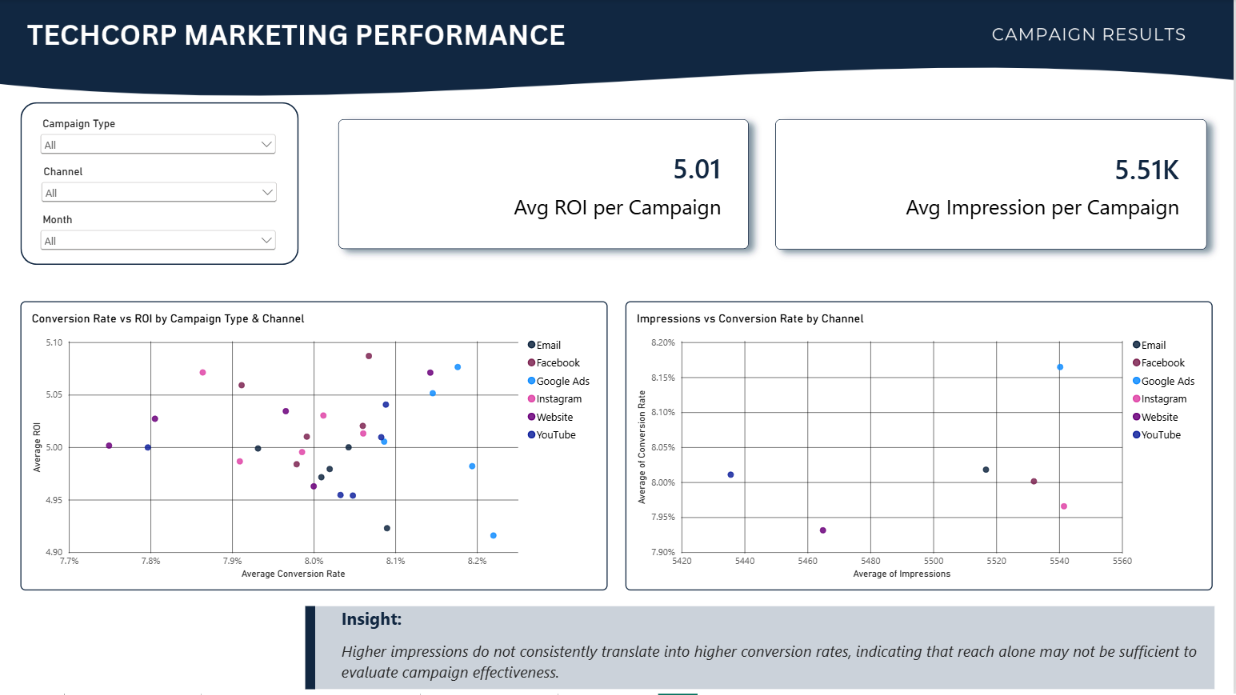

What the dashboard file says about the page in this screenshot:
{"tool":"powerbi","page":{"name":"Campaign Results","canvas":[1920,1080],"ordinal":2},"visuals":[{"type":"image","box":[0,0,1919.7,1080.3],"z":0},{"type":"group","id":"g1","title":"Group 1","box":[34.9,160.5,432.6,252.9],"z":1000},{"type":"shape","box":[34.9,160.5,432.6,252.9],"z":1500,"group":"g1"},{"type":"cardVisual","fields":{"Data":["marketing_campaign techcorp_marketing_campaign.Avg ROI per Campaign"]},"box":[507.6,165.7,678.5,242.4],"z":2000},{"type":"cardVisual","fields":{"Data":["marketing_campaign techcorp_marketing_campaign.Avg Cost per Campaign"]},"box":[1186.9,165.7,711.4,243.2],"z":3000},{"type":"scatterChart","title":"Conversion Rate vs ROI by Campaign Type & Channel","fields":{"X":["Avg(marketing_campaign techcorp_marketing_campaign.Conversion_Rate)"],"Y":["Avg(marketing_campaign techcorp_marketing_campaign.ROI)"],"Category":["marketing_campaign techcorp_marketing_campaign.Campaign_Type"],"Series":["marketing_campaign techcorp_marketing_campaign.Channel_Used"]},"box":[34.9,468.9,912.5,449.9],"z":4000},{"type":"slicer","fields":{"Values":["marketing_campaign techcorp_marketing_campaign.Campaign_Type"]},"box":[61.8,183.2,375,60.3],"z":4500,"group":"g1"},{"type":"slicer","fields":{"Values":["marketing_campaign techcorp_marketing_campaign.Channel_Used"]},"box":[63.5,258.2,375,60.3],"z":5000,"group":"g1"},{"type":"scatterChart","title":"Impressions vs Conversion Rate by Channel","fields":{"X":["marketing_campaign techcorp_marketing_campaign.Impressions"],"Y":["Avg(marketing_campaign techcorp_marketing_campaign.Conversion_Rate)"],"Series":["marketing_campaign techcorp_marketing_campaign.Channel_Used"]},"box":[974.3,468.9,912.5,449.9],"z":5000},{"type":"slicer","fields":{"Values":["marketing_campaign techcorp_marketing_campaign.Month.Variation.Date Hierarchy.Month"]},"box":[61.8,333.2,375,60.3],"z":5500,"group":"g1"},{"type":"group","id":"g2","title":"Group 2","box":[477.2,943.2,1413,129.2],"z":6000},{"type":"textbox","box":[491.2,943.2,1399,129],"z":7000,"group":"g2"},{"type":"shape","box":[477.2,943.4,15.5,129],"z":9000,"group":"g2"}]}

Visuals, with their boxes in screenshot pixels (x1, y1, x2, y2), scaled from the page's 1920x1080 canvas onto the 1236x695 screenshot:
image: [0, 0, 1235, 694]
"Group 1" group: [22, 103, 301, 266]
shape: [22, 103, 301, 266]
cardVisual - marketing_campaign techcorp_marketing_campaign.Avg ROI per Campaign: [327, 107, 764, 263]
cardVisual - marketing_campaign techcorp_marketing_campaign.Avg Cost per Campaign: [764, 107, 1222, 263]
"Conversion Rate vs ROI by Campaign Type & Channel" scatterChart: [22, 302, 610, 591]
slicer - marketing_campaign techcorp_marketing_campaign.Campaign_Type: [40, 118, 281, 157]
slicer - marketing_campaign techcorp_marketing_campaign.Channel_Used: [41, 166, 282, 205]
"Impressions vs Conversion Rate by Channel" scatterChart: [627, 302, 1215, 591]
slicer - marketing_campaign techcorp_marketing_campaign.Month.Variation.Date Hierarchy.Month: [40, 214, 281, 253]
"Group 2" group: [307, 607, 1217, 690]
textbox: [316, 607, 1217, 690]
shape: [307, 607, 317, 690]
